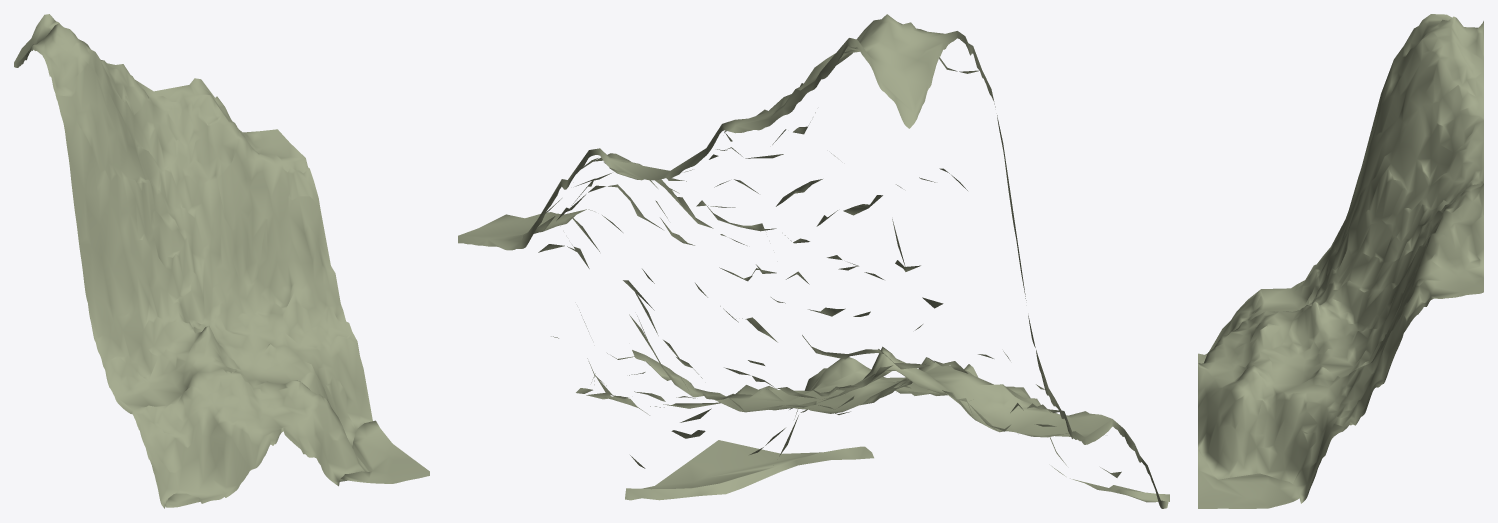
The model's file is terrain_r3_c1_lod1.glb.
The picture shows the model from 3 angles, left to right: view 1: azimuth 30°, elevation 25°; view 2: azimuth 150°, elevation 25°; view 3: azimuth 270°, elevation 25°; orthographic projection. The views are drawn at different scales.
Visible parts, largest first — view 1: terrain_r3_c1_lod1; view 2: terrain_r3_c1_lod1; view 3: terrain_r3_c1_lod1.
Part boxes in pixels (x1,y1,x2,y2): terrain_r3_c1_lod1: [14, 14, 429, 508]; terrain_r3_c1_lod1: [458, 14, 1169, 508]; terrain_r3_c1_lod1: [1198, 14, 1483, 508].
Size of the model in its own units: 50 by 74.34 by 50.
